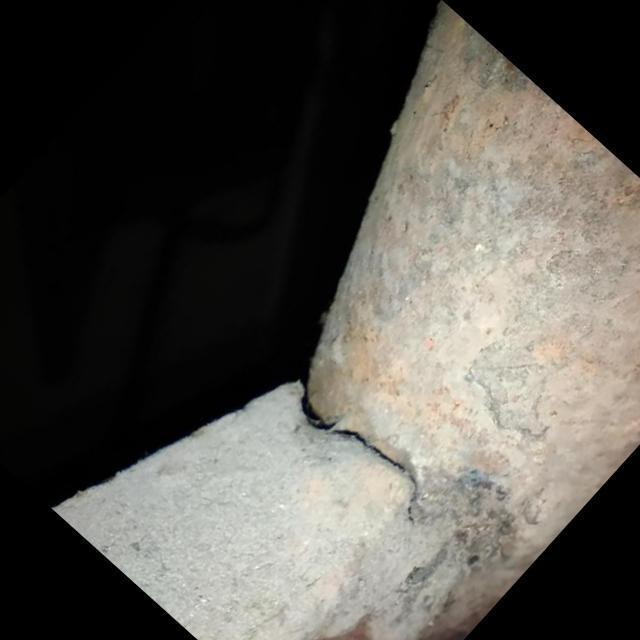defect: (295, 374, 419, 525)
